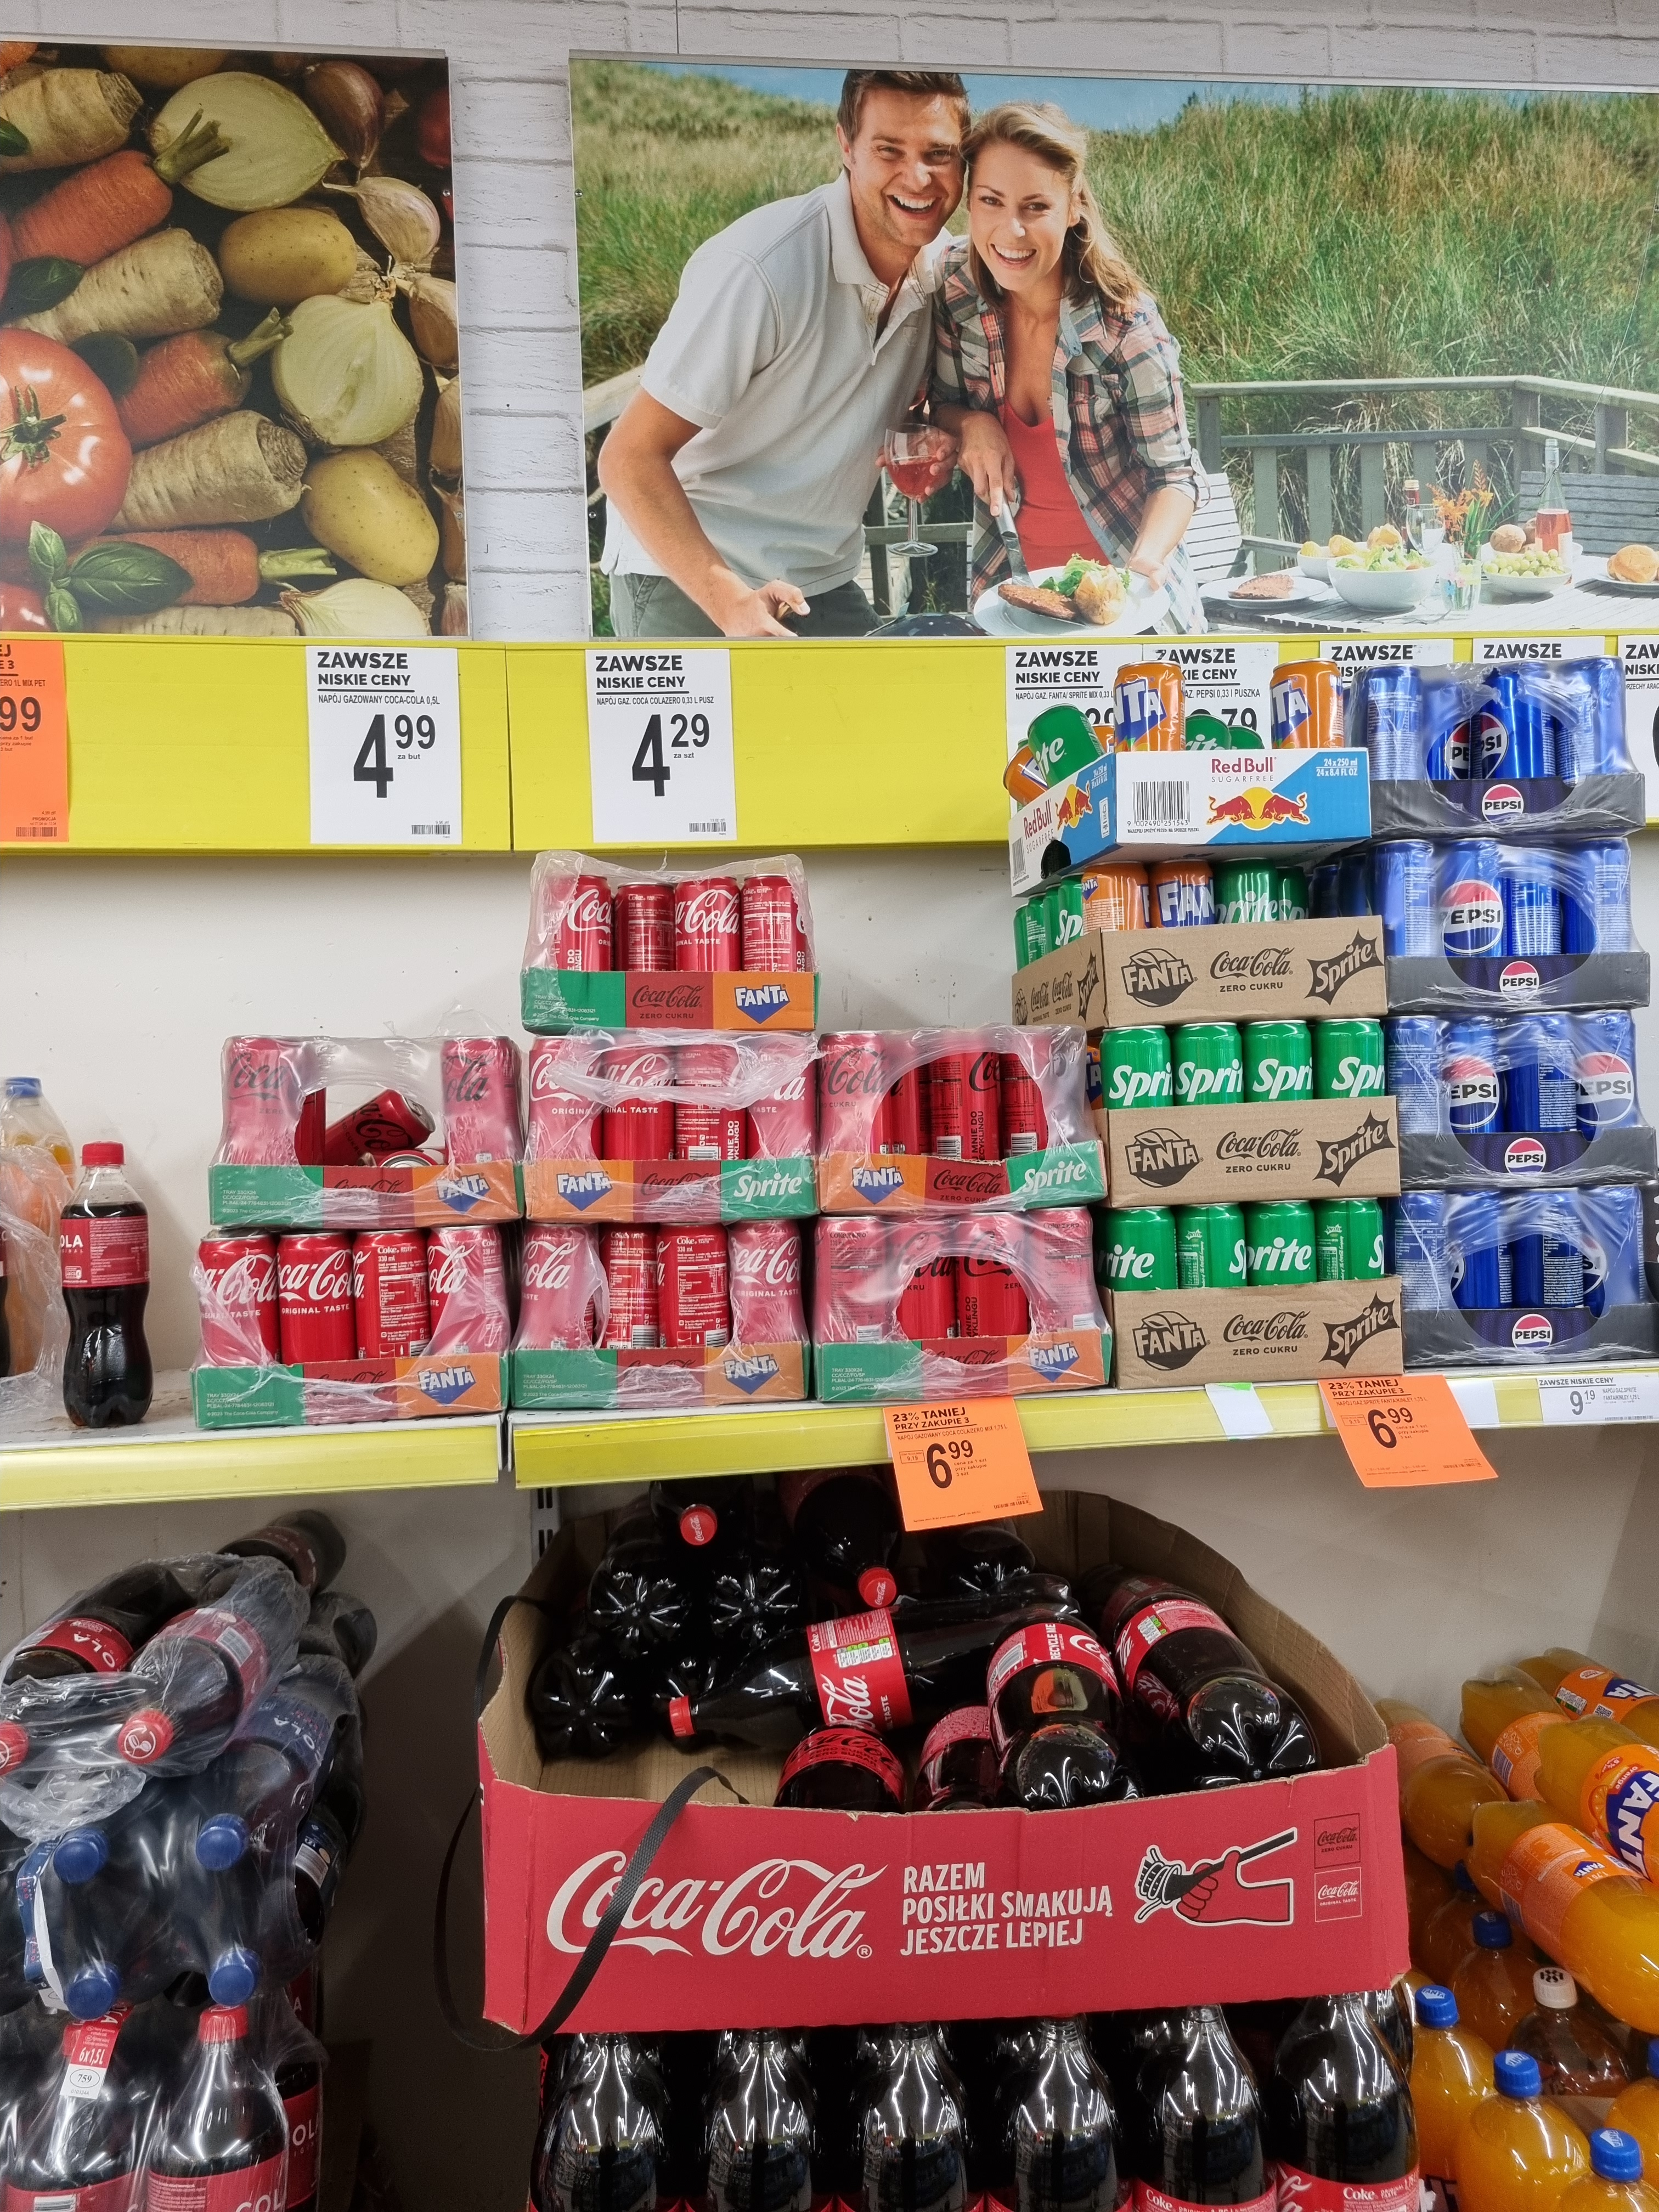Coca Cola: (631, 1601, 1072, 1728), (1096, 1581, 1331, 1784), (978, 1611, 1134, 1813), (910, 1686, 1012, 1839), (218, 1033, 322, 1183), (788, 1712, 908, 1836), (514, 1036, 603, 1162), (272, 1228, 352, 1366), (422, 1221, 502, 1357), (657, 1219, 737, 1355), (728, 1223, 812, 1350), (521, 1224, 601, 1355), (878, 1217, 957, 1350), (439, 1042, 525, 1160), (816, 1033, 894, 1160), (953, 1216, 1033, 1338), (728, 871, 817, 981), (350, 1224, 423, 1357), (598, 1042, 680, 1158), (741, 1042, 821, 1160), (809, 1219, 882, 1348), (206, 1233, 272, 1374), (317, 1090, 436, 1167), (1002, 1026, 1068, 1157), (932, 1035, 1002, 1155), (535, 873, 617, 974), (678, 1040, 749, 1155), (598, 1224, 664, 1345), (1028, 1205, 1093, 1327), (610, 878, 674, 972), (884, 1031, 932, 1155), (673, 880, 734, 977)
